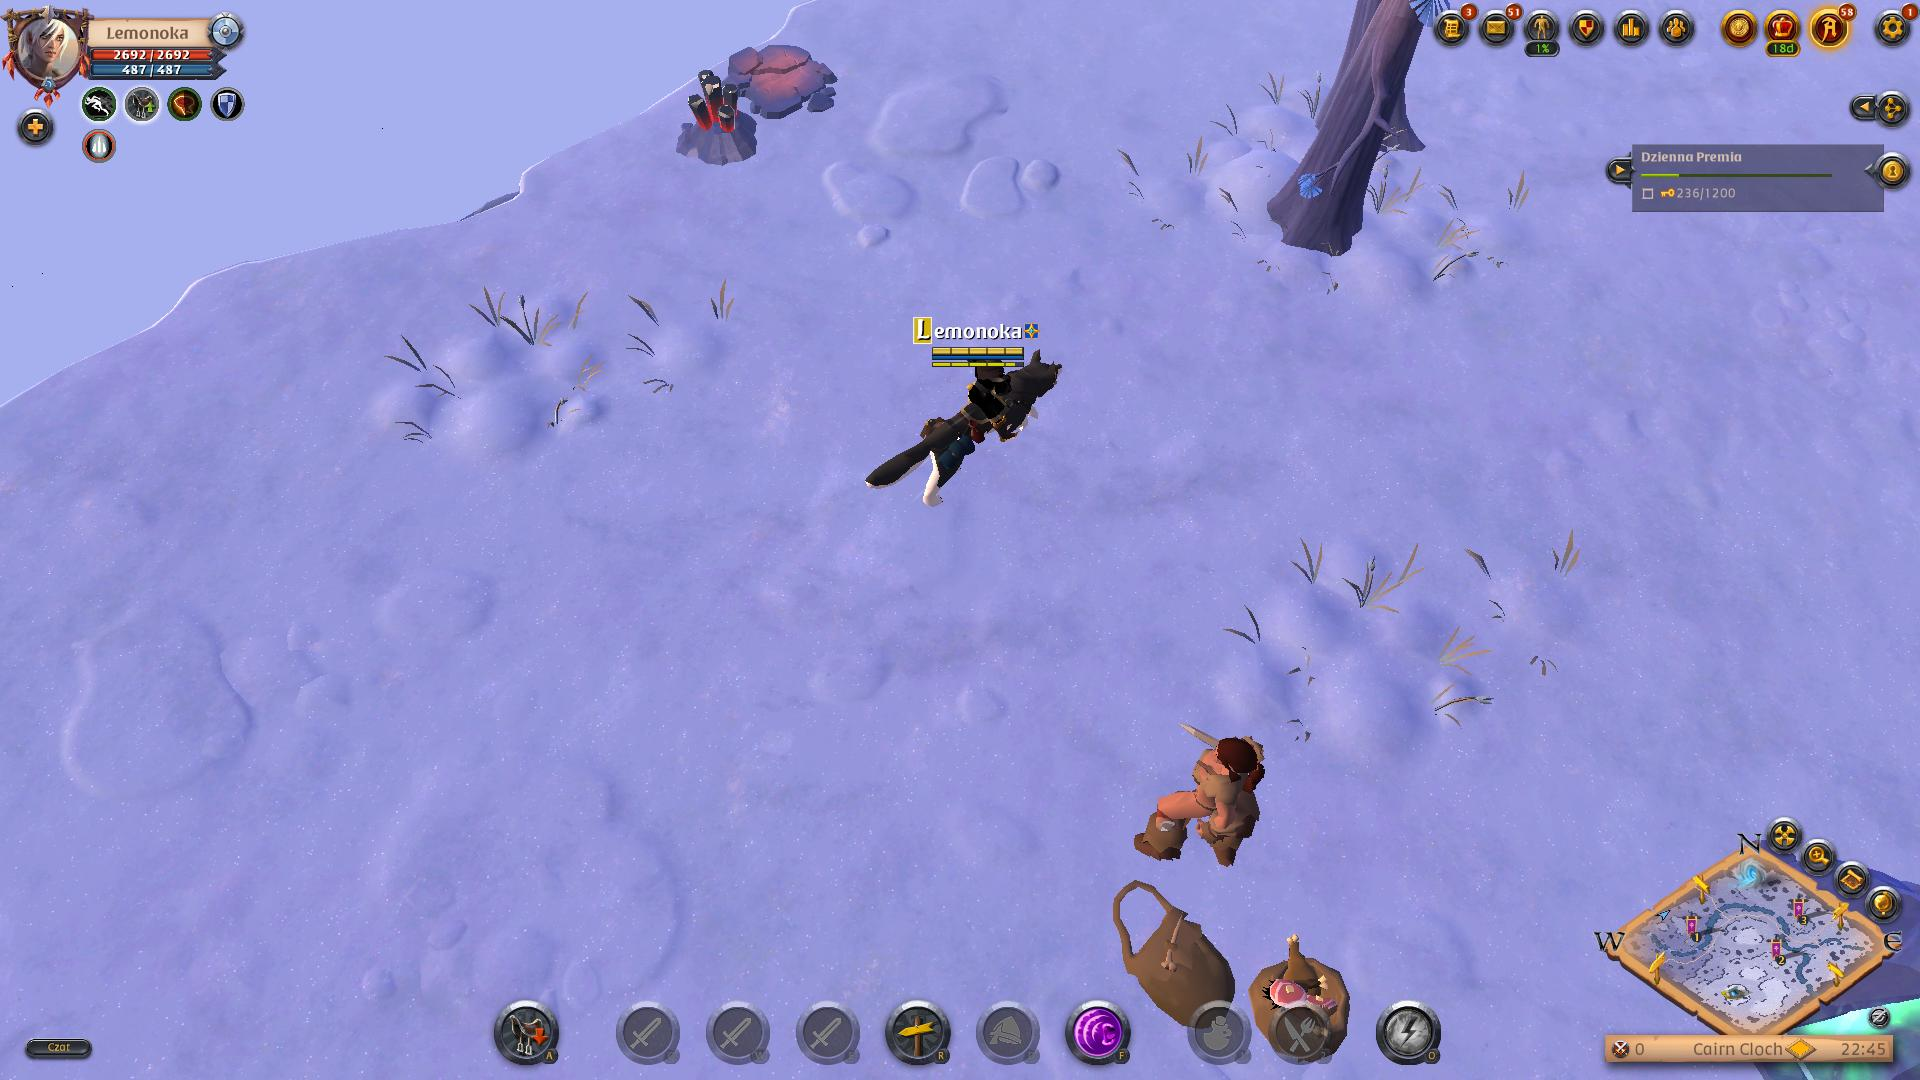ore tier 5: (675, 65, 762, 173)
